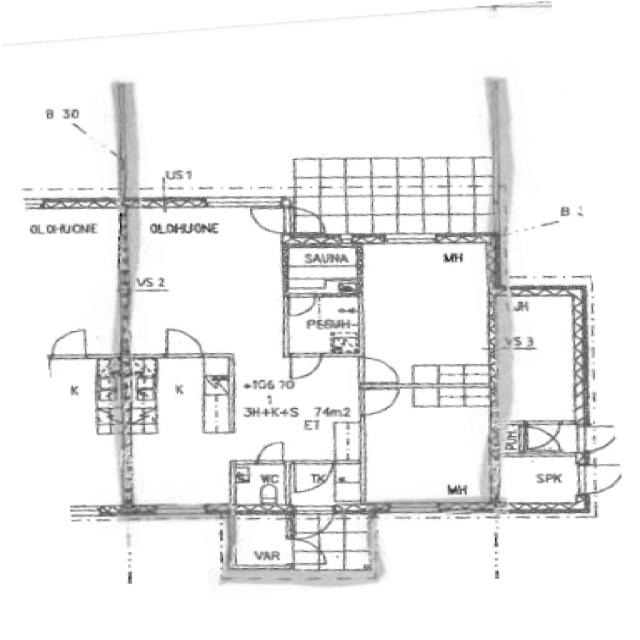door: (229, 459, 292, 512), (43, 325, 100, 364), (158, 324, 207, 361), (289, 458, 335, 496), (576, 462, 626, 495), (357, 385, 402, 419), (356, 354, 402, 386), (246, 202, 288, 236), (282, 352, 326, 383), (578, 424, 621, 454), (292, 506, 336, 535), (287, 536, 327, 566), (252, 437, 290, 468), (280, 291, 318, 319)
window: (157, 193, 257, 214)
zone: (124, 201, 286, 355), (356, 237, 494, 389), (121, 355, 236, 513), (358, 385, 496, 510), (496, 287, 587, 425), (494, 452, 584, 514), (286, 293, 360, 355), (282, 239, 358, 294), (228, 511, 291, 572), (230, 461, 288, 513)
